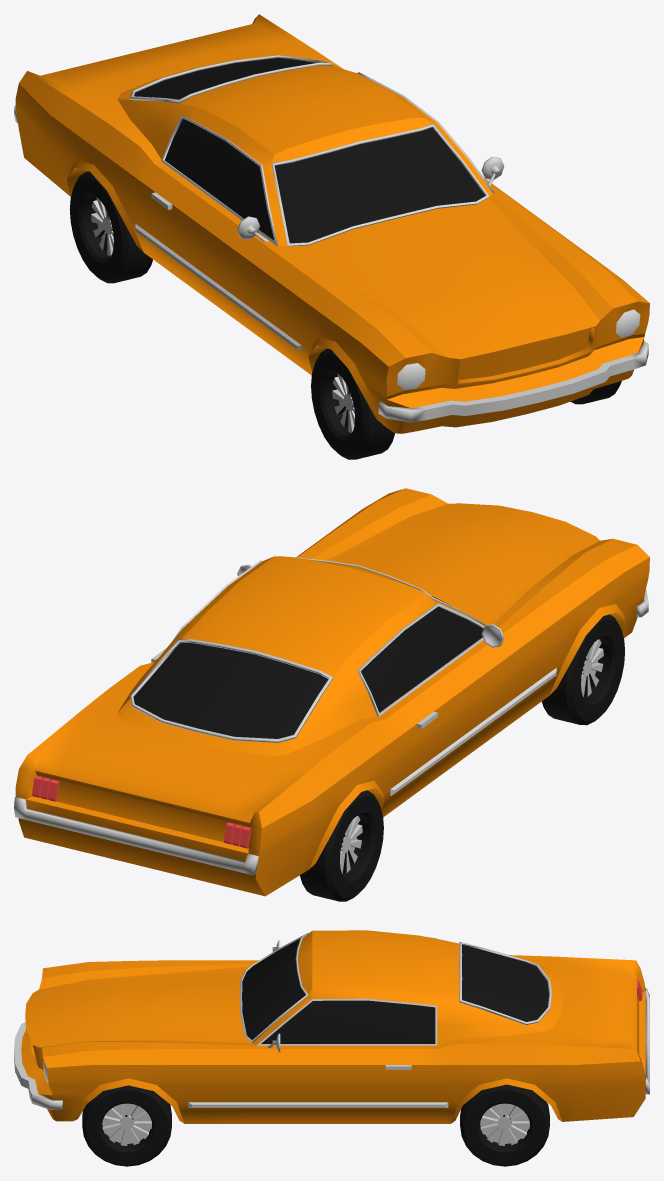
File: Mustang.fbx
The picture shows the model from 3 angles, top to bottom: view 1: azimuth 30°, elevation 25°; view 2: azimuth 150°, elevation 25°; view 3: azimuth 270°, elevation 25°; orthographic projection. The views are drawn at different scales.
Visible parts, largest first — view 1: Mustang, Tires Front, Tires Back; view 2: Mustang, Tires Back, Tires Front; view 3: Mustang, Tires Back, Tires Front.
Part boxes in pixels (x1=…): Mustang: x1=14, y1=14, x2=649, y2=433; Tires Front: x1=311, y1=348, x2=621, y2=459; Tires Back: x1=69, y1=171, x2=152, y2=283; Mustang: x1=14, y1=488, x2=649, y2=896; Tires Back: x1=300, y1=790, x2=383, y2=901; Tires Front: x1=542, y1=614, x2=624, y2=725; Mustang: x1=14, y1=930, x2=649, y2=1123; Tires Back: x1=460, y1=1084, x2=549, y2=1166; Tires Front: x1=82, y1=1085, x2=171, y2=1166.
Bounding box in the file's own units: 1.32 × 0.9749 × 3.42.
Materials: 1 (1 with a texture image).
